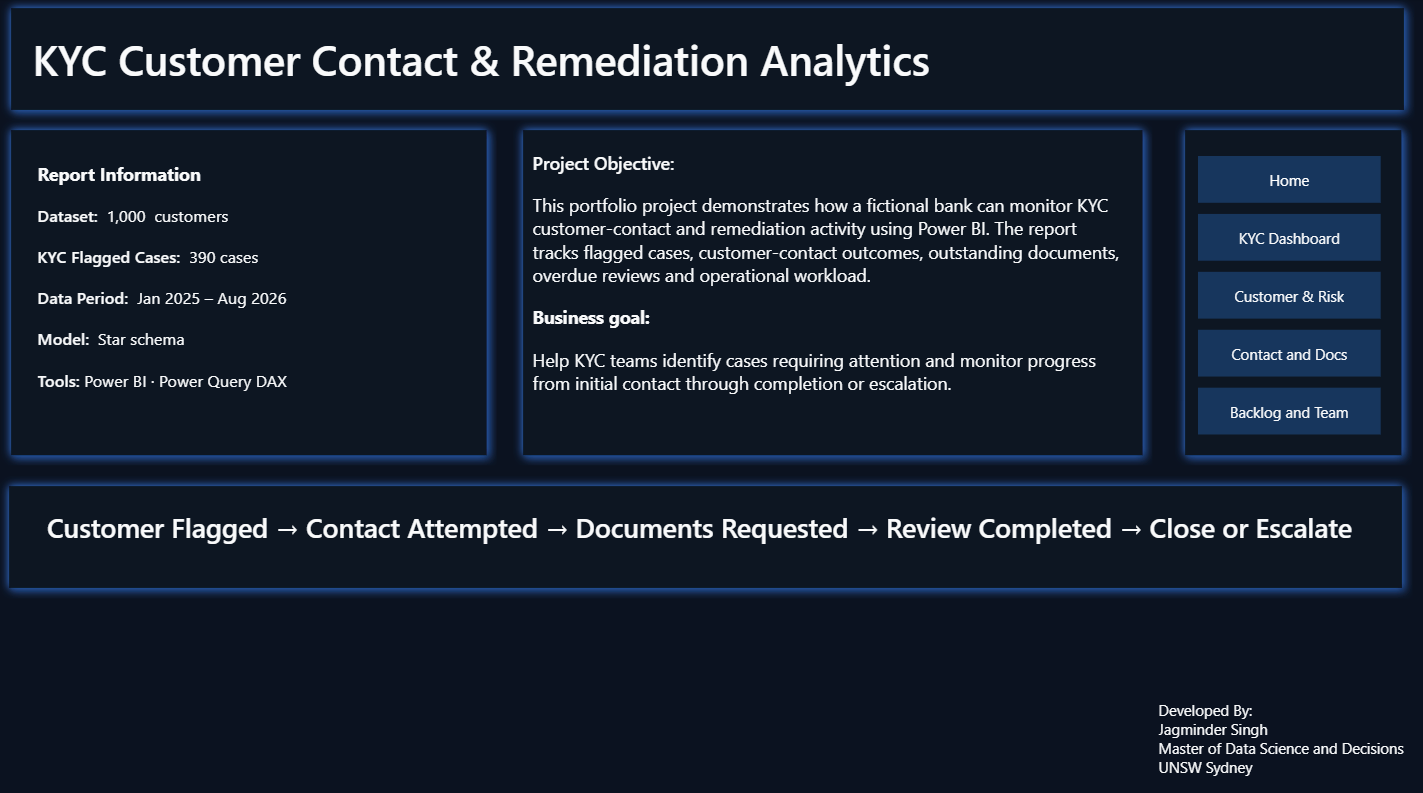

Layout of this report page (visuals, bound fields, positions):
{"tool":"powerbi","page":{"name":"Home","canvas":[1280,720],"ordinal":0},"visuals":[{"type":"shape","box":[0,428.9,1268.5,109.5],"z":0},{"type":"shape","box":[461.5,109.1,574.4,310.2],"z":1000},{"type":"shape","box":[1.9,109.1,445.2,310.2],"z":2000},{"type":"shape","box":[1.9,0,1268.5,109.5],"z":3000},{"type":"textbox","box":[24.9,24.9,1231.2,84.2],"z":4000},{"type":"textbox","box":[29.7,141.7,398.3,244.1],"z":5000},{"type":"textbox","box":[473.9,132.1,539,264.2],"z":6000},{"type":"textbox","box":[1036,625.7,244.2,94.3],"z":7000},{"type":"shape","box":[1056,109.1,212.5,310.2],"z":8000},{"type":"pageNavigator","box":[1076.1,141.7,164.3,255],"z":9000},{"type":"textbox","box":[1.9,437.5,1254.2,100.5],"z":10000}]}

Visuals, with their boxes in screenshot pixels (x1, y1, x2, y2), scaled from the page's 1280x720 canvas onto the 1423x793 screenshot:
shape: <bbox>0, 472, 1410, 593</bbox>
shape: <bbox>513, 120, 1152, 462</bbox>
shape: <bbox>2, 120, 497, 462</bbox>
shape: <bbox>2, 0, 1412, 121</bbox>
textbox: <bbox>28, 27, 1396, 120</bbox>
textbox: <bbox>33, 156, 476, 425</bbox>
textbox: <bbox>527, 145, 1126, 436</bbox>
textbox: <bbox>1152, 689, 1422, 792</bbox>
shape: <bbox>1174, 120, 1410, 462</bbox>
pageNavigator: <bbox>1196, 156, 1379, 437</bbox>
textbox: <bbox>2, 482, 1396, 593</bbox>
